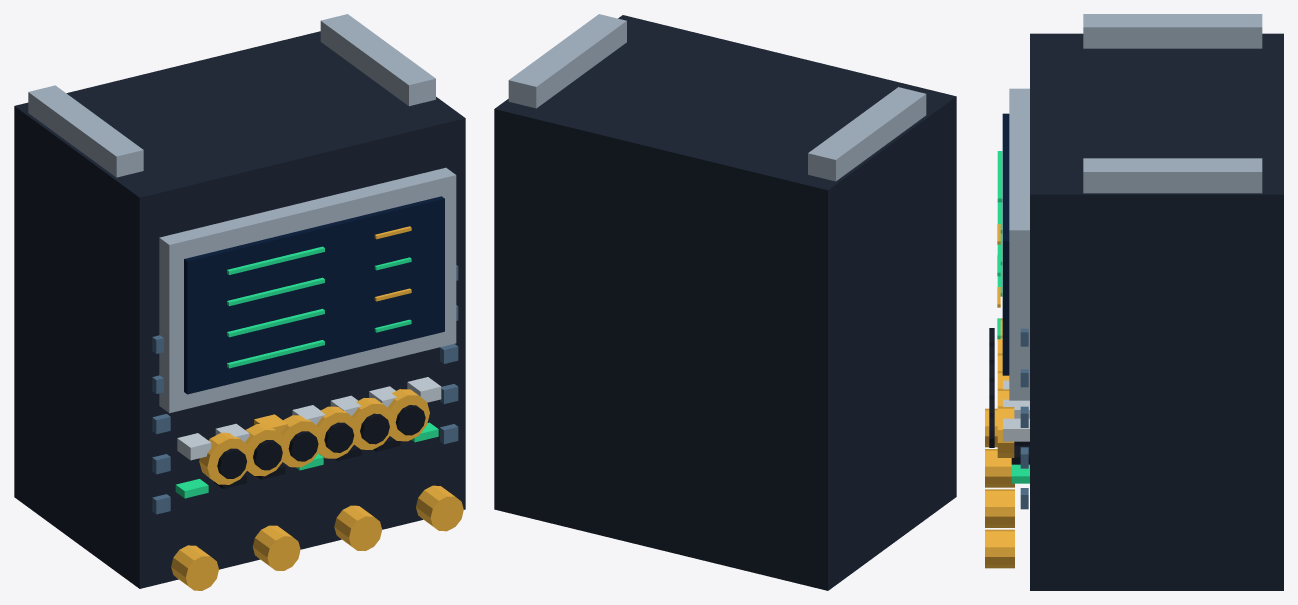
The model's file is 43_L85_RelativePositionVelocityEstimator.fbx.
3 renders of one model, left to right at view 1: azimuth 30°, elevation 25°; view 2: azimuth 150°, elevation 25°; view 3: azimuth 270°, elevation 25°, orthographic. The views are drawn at different scales.
Visible parts, largest first — view 1: L85_RelativePositionVelocityEstimator, L85_RelativePositionVelocityEstimator_Part_0009, L85_RelativePositionVelocityEstimator_Part_0011, L85_RelativePositionVelocityEstimator_Part_0017, L85_RelativePositionVelocityEstimator_Part_0015, L85_RelativePositionVelocityEstimator_Part_0013, L85_RelativePositionVelocityEstimator_Part_0019, L85_RelativePositionVelocityEstimator_Part_0014, L85_RelativePositionVelocityEstimator_Part_0016, L85_RelativePositionVelocityEstimator_Part_0020, L85_RelativePositionVelocityEstimator_Part_0012, L85_RelativePositionVelocityEstimator_Part_0018 (+1 smaller); view 2: L85_RelativePositionVelocityEstimator; view 3: L85_RelativePositionVelocityEstimator, L85_RelativePositionVelocityEstimator_Part_0019.
Part boxes in pixels (x1,y1,x2,y2): L85_RelativePositionVelocityEstimator: [14, 14, 465, 590]; L85_RelativePositionVelocityEstimator_Part_0009: [199, 432, 251, 484]; L85_RelativePositionVelocityEstimator_Part_0011: [244, 424, 287, 476]; L85_RelativePositionVelocityEstimator_Part_0017: [351, 398, 394, 449]; L85_RelativePositionVelocityEstimator_Part_0015: [316, 406, 356, 458]; L85_RelativePositionVelocityEstimator_Part_0013: [280, 415, 322, 467]; L85_RelativePositionVelocityEstimator_Part_0019: [387, 389, 429, 441]; L85_RelativePositionVelocityEstimator_Part_0014: [288, 431, 318, 461]; L85_RelativePositionVelocityEstimator_Part_0016: [324, 422, 354, 452]; L85_RelativePositionVelocityEstimator_Part_0020: [395, 405, 425, 435]; L85_RelativePositionVelocityEstimator_Part_0012: [253, 440, 282, 470]; L85_RelativePositionVelocityEstimator_Part_0018: [360, 413, 389, 444]; L85_RelativePositionVelocityEstimator: [494, 14, 956, 590]; L85_RelativePositionVelocityEstimator: [985, 14, 1283, 590]; L85_RelativePositionVelocityEstimator_Part_0019: [997, 406, 1014, 457].
Bounding box in the file's own units: 95.88 × 116 × 75.2.
